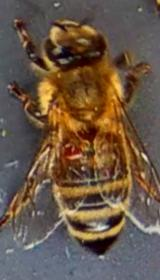varroa_mite: (56, 142, 92, 160)
